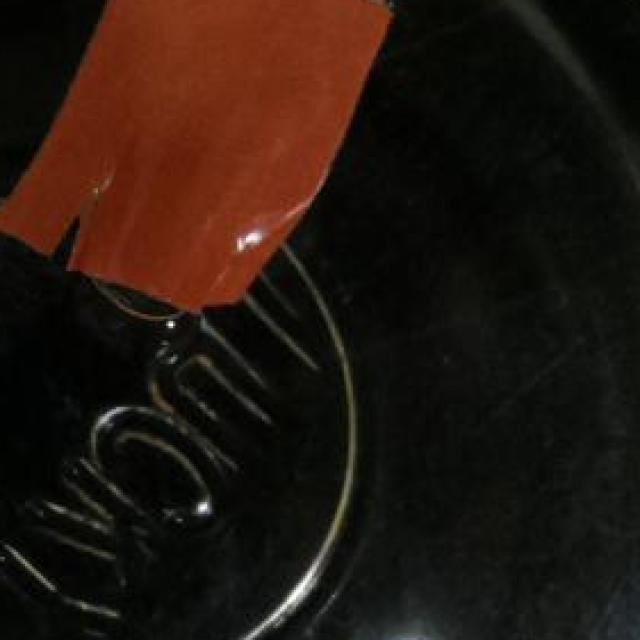Microplastic: (0, 0, 401, 319)
